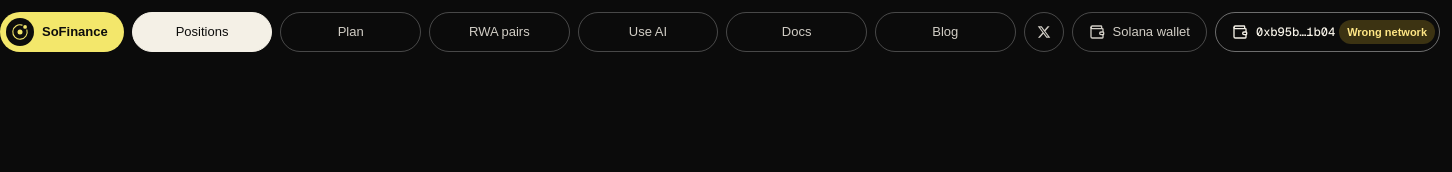
Test: wrong network › the nav keeps the address and shows an amber Wrong network button instead of a chain tag; it switches to Robinhood Chain
Check: the button with test id "nav-evm-wallet" reads "0xb95b…1b04", box x1=1216 y1=13 x2=1339 y2=51
Step 1. Click the button with test id "nav-evm-switch" → (1387, 32), box x1=1339 y1=20 x2=1435 y2=44
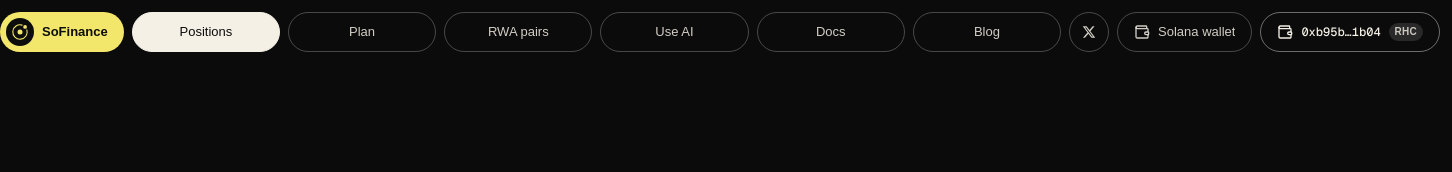
Check: the button with test id "nav-evm-switch" is gone
Check: the button with test id "nav-evm-wallet" reads "0xb95b…1b04 RHC", box x1=1260 y1=12 x2=1440 y2=52
